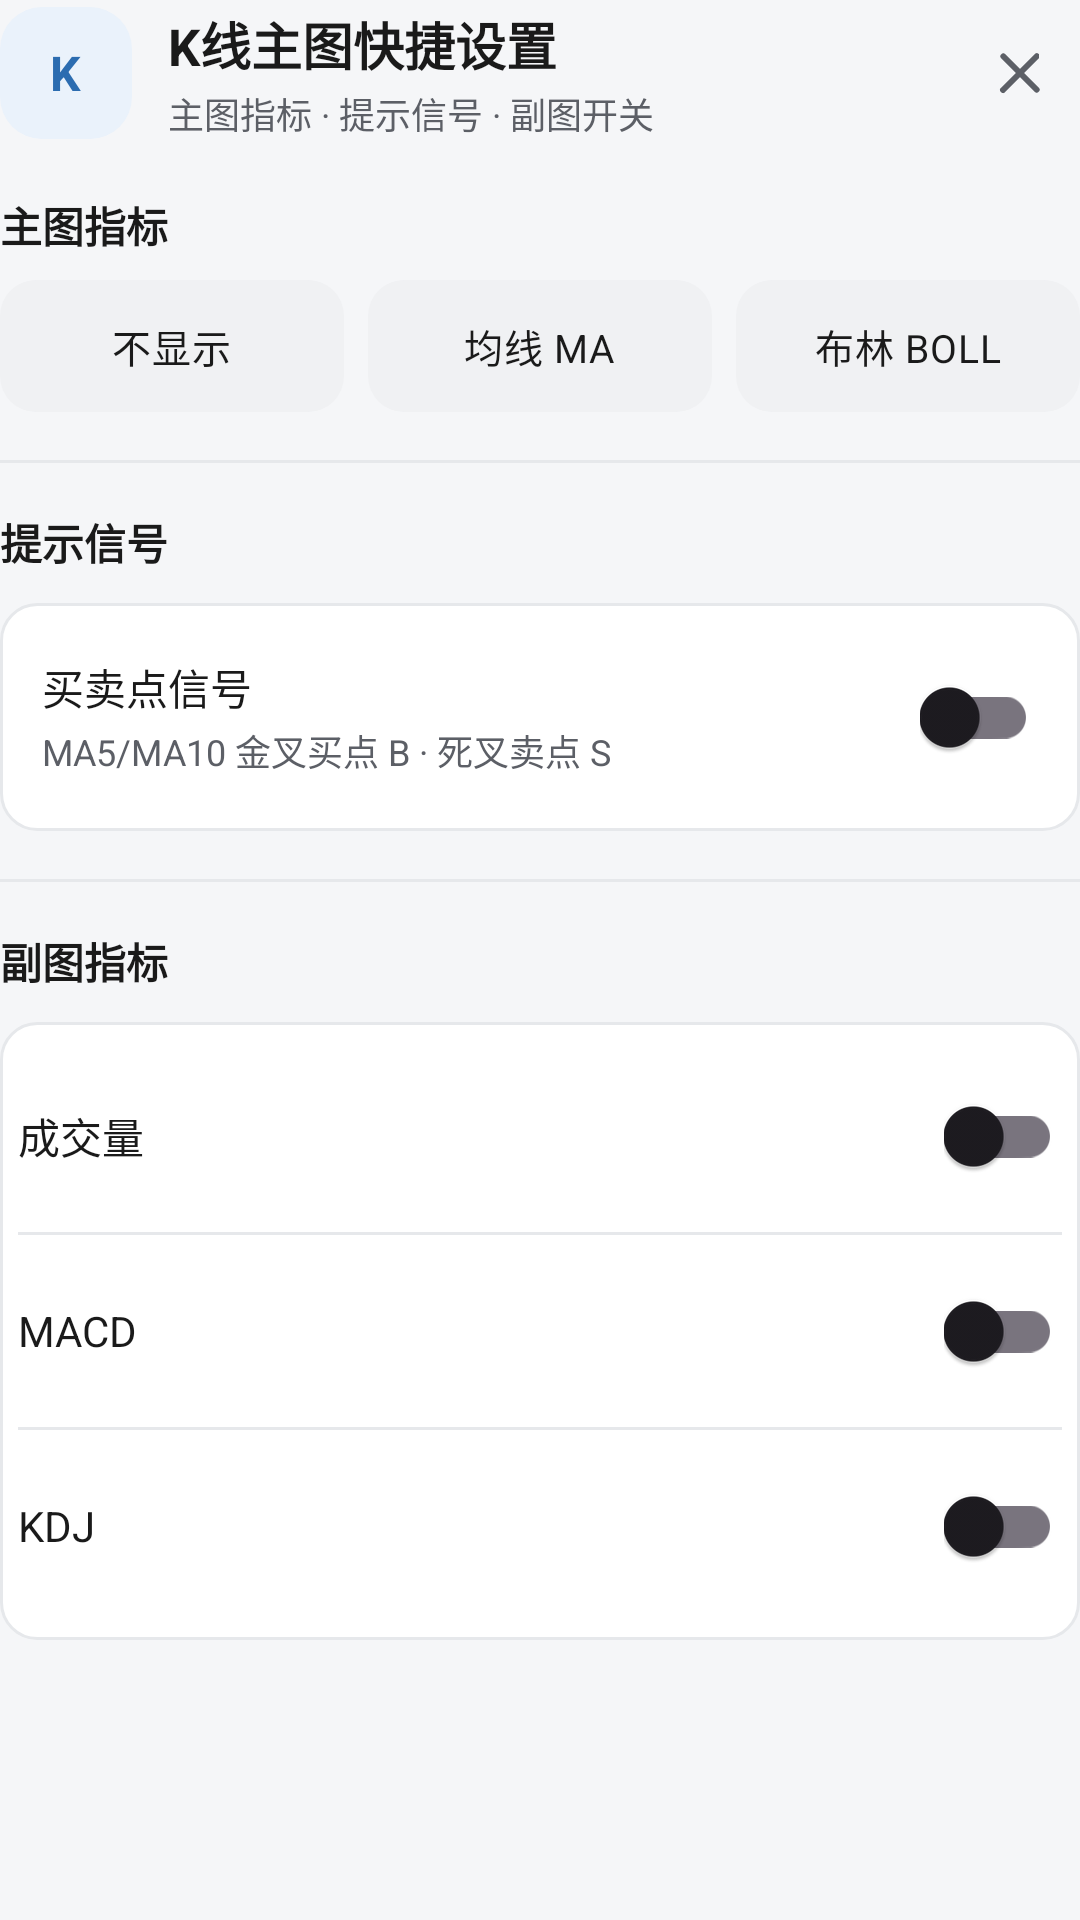

Where to tap for icons on this 1080*1920 app screen, as [x,y]:
关闭: [1020,73]
